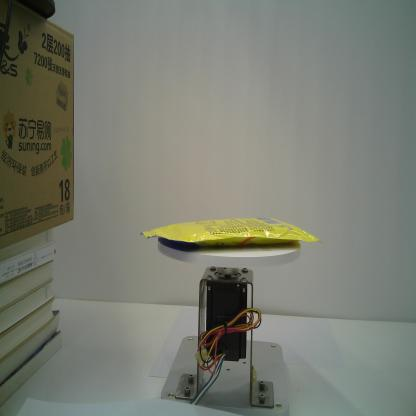Dried Fruit: (140, 217, 326, 249)
